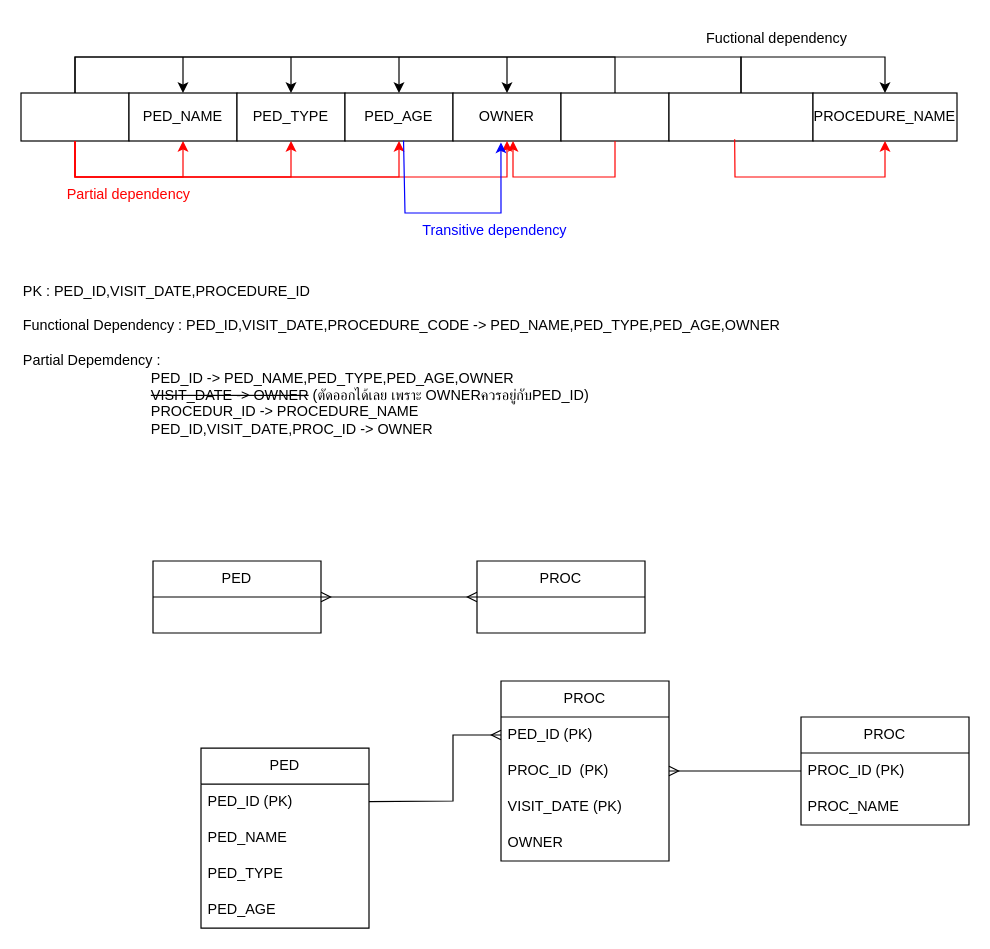
The diagram is 990 pixels wide and 949 high, and some of its shapes have lost their labels. The centre of each missing label's shape, as x and y in pixels:
PED_ID: point (74, 116)
PROCEDURE_ID: point (740, 116)
VISIT_DATE: point (614, 116)
